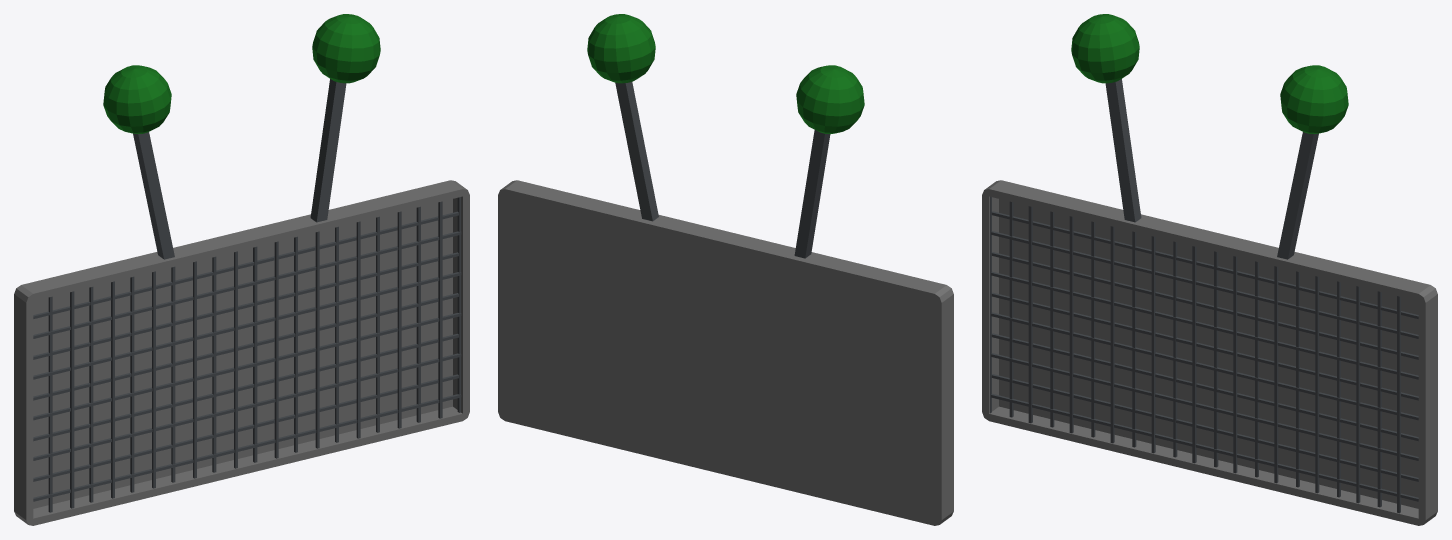
File: ScoreSign.fbx
3 renders of one model, left to right at view 1: azimuth 30°, elevation 25°; view 2: azimuth 150°, elevation 25°; view 3: azimuth 330°, elevation 25°, orthographic.
Parts seen in each view (by area): view 1: Sign Back, Grid Horizontal, Grid Vertical, Balls, SignHanger; view 2: Sign Back, Balls, SignHanger; view 3: Sign Back, Grid Horizontal, Grid Vertical, Balls, SignHanger.
Part boxes in pixels (x1=…): Sign Back: x1=14, y1=180, x2=469, y2=525; Grid Horizontal: x1=48, y1=197, x2=460, y2=512; Grid Vertical: x1=33, y1=211, x2=461, y2=501; Balls: x1=103, y1=14, x2=380, y2=134; SignHanger: x1=133, y1=79, x2=346, y2=259; Sign Back: x1=498, y1=180, x2=953, y2=525; Balls: x1=587, y1=14, x2=864, y2=134; SignHanger: x1=615, y1=82, x2=830, y2=258; Sign Back: x1=982, y1=180, x2=1437, y2=525; Grid Horizontal: x1=990, y1=196, x2=1400, y2=513; Grid Vertical: x1=991, y1=211, x2=1418, y2=501; Balls: x1=1071, y1=14, x2=1348, y2=134; SignHanger: x1=1105, y1=79, x2=1318, y2=259.
Size of the model in its own units: 420 by 386 by 56.99.
